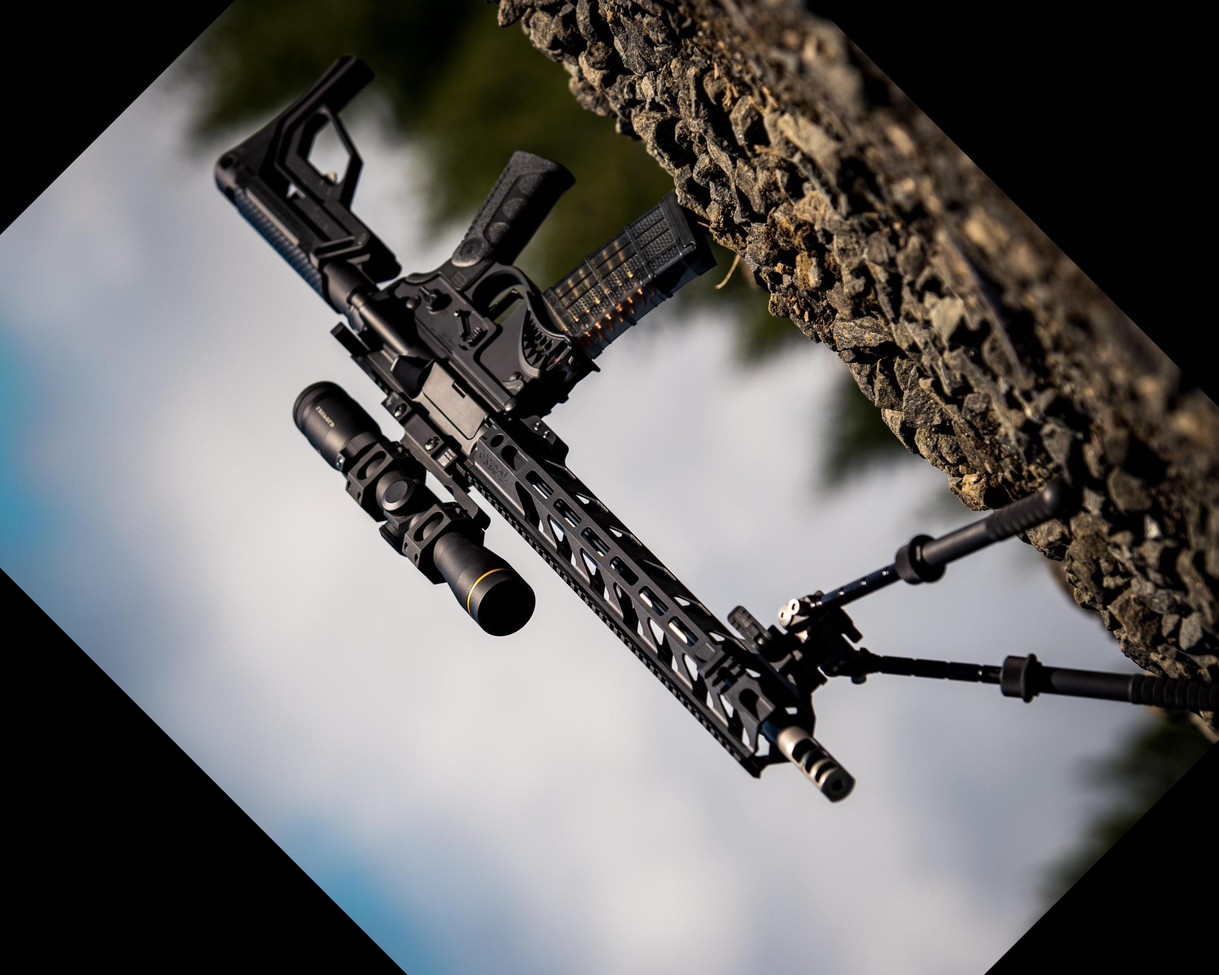larga: (214, 51, 1219, 806)
